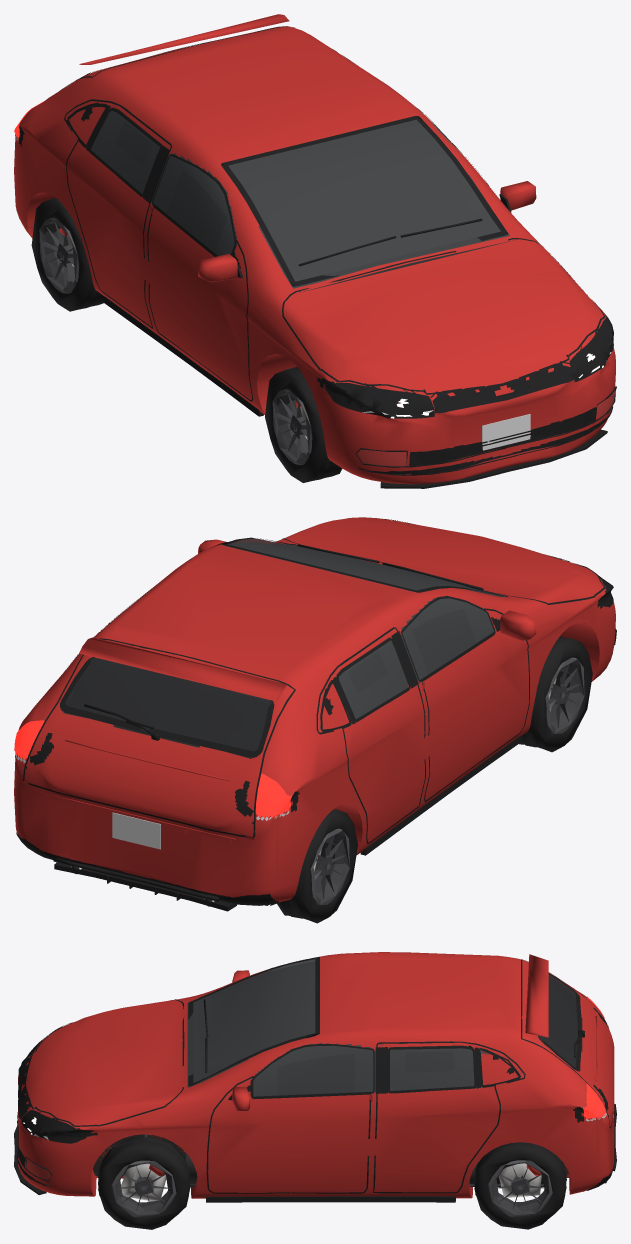
File: compactHatchSport-lod1.glb
The picture shows the model from 3 angles, top to bottom: view 1: azimuth 30°, elevation 25°; view 2: azimuth 150°, elevation 25°; view 3: azimuth 270°, elevation 25°; orthographic projection. The views are drawn at different scales.
Parts seen in each view (by area): view 1: Body, HoodSkin, Body_Lining, Body_Trim, Panel_FR, Panel_RR, Window_FR, Wheel_FR_Tyre, Window_RR, Wheel_RR_Tyre, Window_FR_Lining, Panel_RR_Trim (+11 smaller); view 2: Body, TrunkSkin, HoodSkin, Panel_FR, Panel_RR, Body_Lining, Window_FR, Body_Trim, Spoiler, TrunkSkin_Trim, Wheel_FR_Tyre, Window_RR (+13 smaller); view 3: Body, HoodSkin, Panel_FL, Body_Lining, Panel_RL, TrunkSkin, Window_FL, Wheel_FL_Tyre, Body_Trim, Wheel_RL_Tyre, Window_RL, Window_FL_Lining (+13 smaller).
Boxes of the visible parts, bbox=[...] form: Body: bbox=[14, 26, 615, 484]; HoodSkin: bbox=[283, 239, 603, 393]; Body_Lining: bbox=[91, 111, 513, 292]; Body_Trim: bbox=[14, 101, 613, 475]; Panel_FR: bbox=[149, 152, 253, 399]; Panel_RR: bbox=[65, 101, 170, 326]; Window_FR: bbox=[153, 154, 237, 255]; Wheel_FR_Tyre: bbox=[265, 367, 342, 482]; Window_RR: bbox=[91, 110, 159, 193]; Wheel_RR_Tyre: bbox=[31, 197, 103, 311]; Window_FR_Lining: bbox=[168, 169, 227, 251]; Panel_RR_Trim: bbox=[64, 99, 171, 328]; Body: bbox=[14, 538, 615, 902]; TrunkSkin: bbox=[24, 640, 293, 836]; HoodSkin: bbox=[284, 517, 603, 603]; Panel_FR: bbox=[402, 598, 528, 799]; Panel_RR: bbox=[318, 628, 423, 842]; Body_Lining: bbox=[70, 543, 495, 718]; Window_FR: bbox=[402, 598, 493, 681]; Body_Trim: bbox=[14, 520, 613, 905]; Spoiler: bbox=[79, 637, 286, 701]; TrunkSkin_Trim: bbox=[23, 638, 295, 837]; Wheel_FR_Tyre: bbox=[519, 636, 592, 752]; Window_RR: bbox=[339, 640, 408, 718]; Body: bbox=[18, 952, 614, 1198]; HoodSkin: bbox=[26, 1000, 181, 1125]; Panel_FL: bbox=[208, 1040, 370, 1192]; Body_Lining: bbox=[188, 961, 570, 1096]; Panel_RL: bbox=[374, 1043, 524, 1192]; TrunkSkin: bbox=[522, 960, 614, 1126]; Window_FL: bbox=[251, 1043, 373, 1096]; Wheel_FL_Tyre: bbox=[98, 1135, 190, 1229]; Body_Trim: bbox=[17, 957, 614, 1190]; Wheel_RL_Tyre: bbox=[474, 1142, 566, 1229]; Window_RL: bbox=[390, 1048, 474, 1090]; Window_FL_Lining: bbox=[278, 1054, 354, 1095].
Size of the model in its own units: 2.13 by 1.41 by 4.1.
